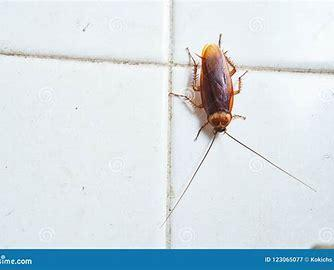cockroach: (169, 33, 298, 209)
